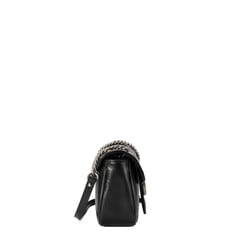Gucci: (72, 124, 153, 230)
